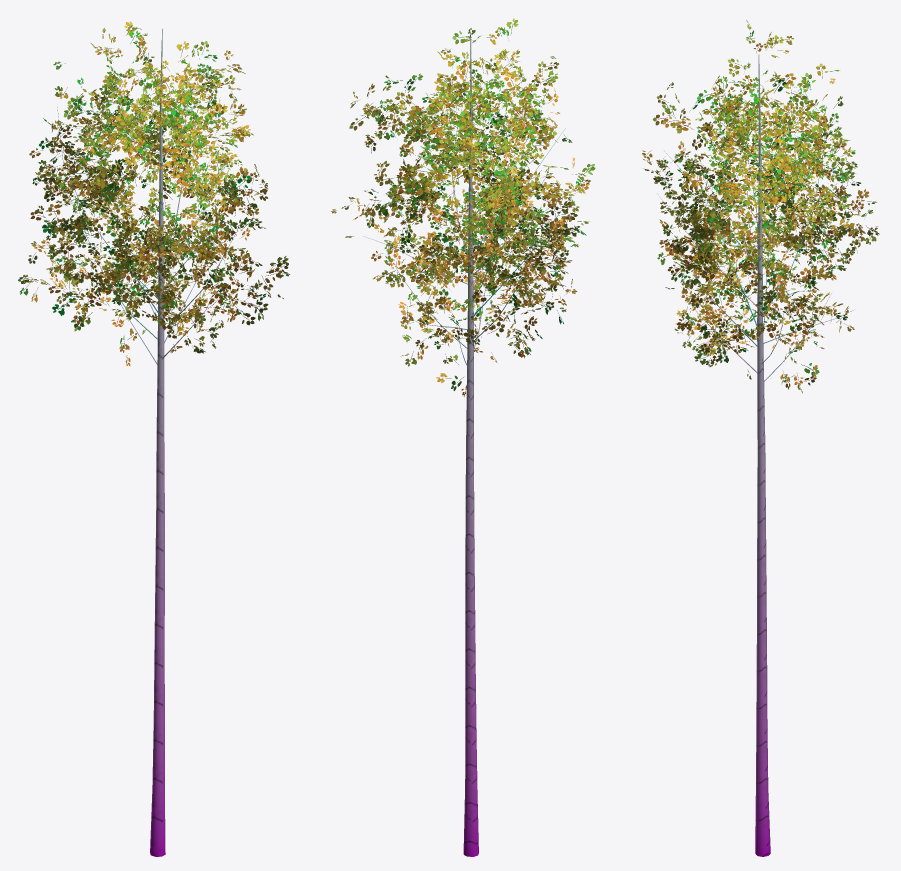
3 renders of one model, left to right at view 1: azimuth 30°, elevation 25°; view 2: azimuth 150°, elevation 25°; view 3: azimuth 270°, elevation 25°, orthographic. The views are drawn at different scales.
Parts seen in each view (by area): view 1: quaking_aspen_LOD1; view 2: quaking_aspen_LOD1; view 3: quaking_aspen_LOD1.
Part boxes in pixels (<box>): quaking_aspen_LOD1: <box>18,21,289,856</box>; quaking_aspen_LOD1: <box>331,18,595,856</box>; quaking_aspen_LOD1: <box>642,20,879,856</box>.
Size of the model in its own units: 6.09 by 19.81 by 5.58.
2 materials, 2 textured.
